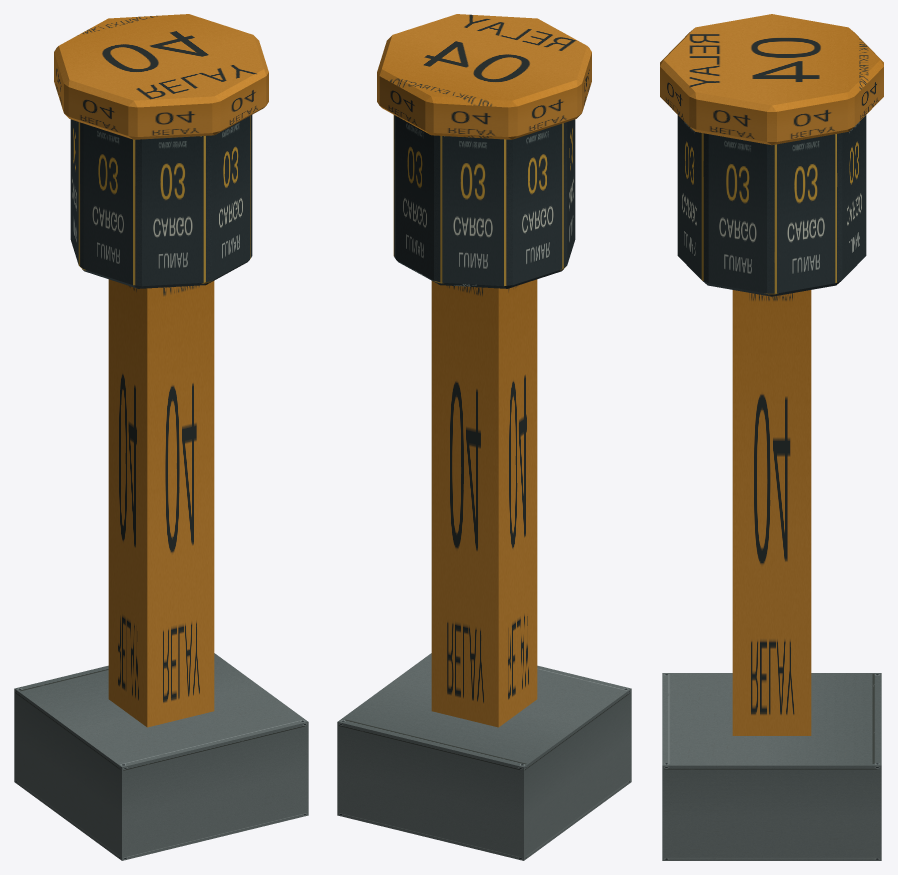
Rendered from beacon_LOD2.obj.
The picture shows the model from 3 angles, left to right: view 1: azimuth 30°, elevation 25°; view 2: azimuth 150°, elevation 25°; view 3: azimuth 270°, elevation 25°; orthographic projection.
Parts seen in each view (by area): view 1: L02_beacon_LOD2; view 2: L02_beacon_LOD2; view 3: L02_beacon_LOD2.
Boxes of the visible parts, x1=… form: L02_beacon_LOD2: x1=14, y1=14, x2=308, y2=860; L02_beacon_LOD2: x1=337, y1=14, x2=631, y2=860; L02_beacon_LOD2: x1=660, y1=14, x2=883, y2=860.
Size of the model in its own units: 0.5108 by 1.9 by 0.5108.
Materials: 1 (1 with a texture image).
